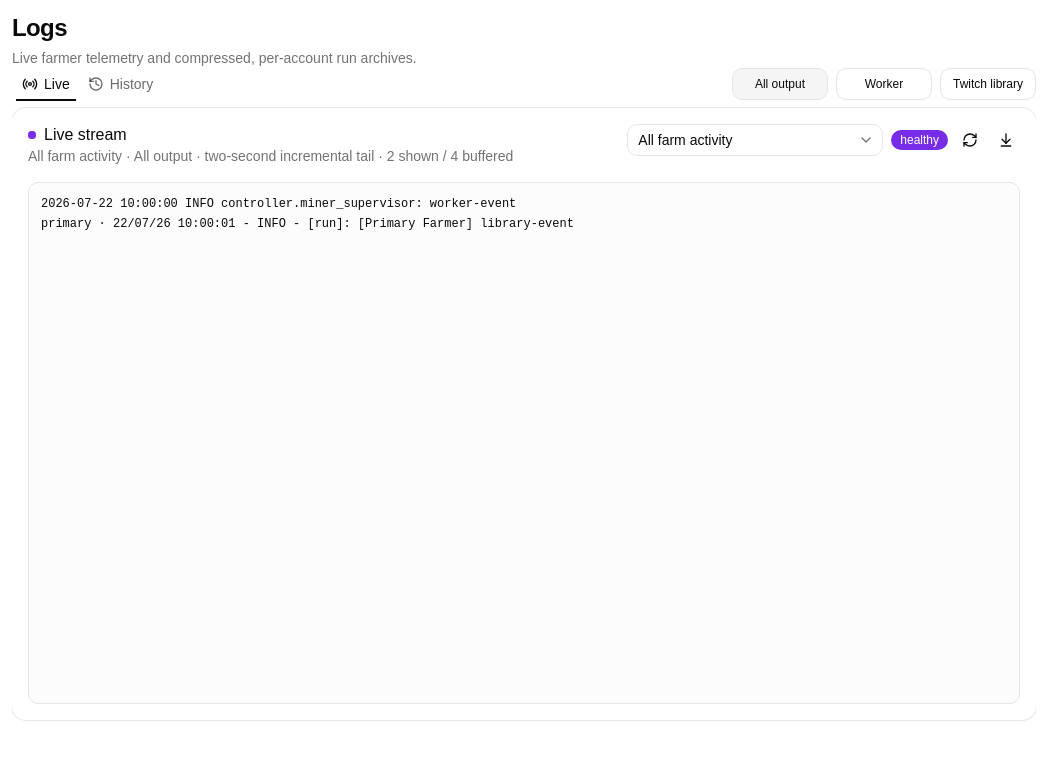
Scenario: LogsPage › filters live and archived output between worker and Twitch library lines
This screenshot has width=1048, height=780.
Expected: the text "Live farmer log lines" is shown, [41,197,574,230]
Click the button with aria-label "Show Twitch library logs".
click(988, 84)  # box [940,68,1036,100]
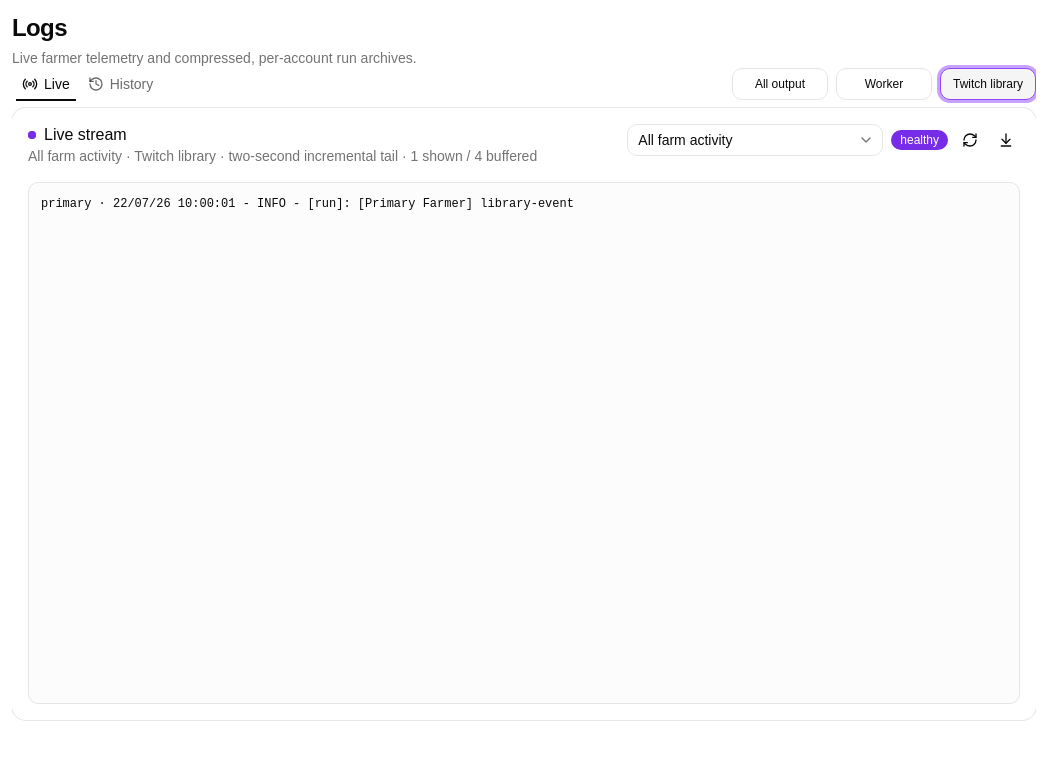
Expected: the text "library-event" does not show "twitch_farm.miner_output", [41,197,574,211]
Expected: the text "library-event" reads "primary · 22/07/26 10:00:01 - INFO - [run]: [Primary Farmer] library-event", [41,197,574,211]
Expected: the text "worker-event" is gone
Click the button with aria-label "Show Worker logs".
click(884, 84)  # box [836,68,932,100]
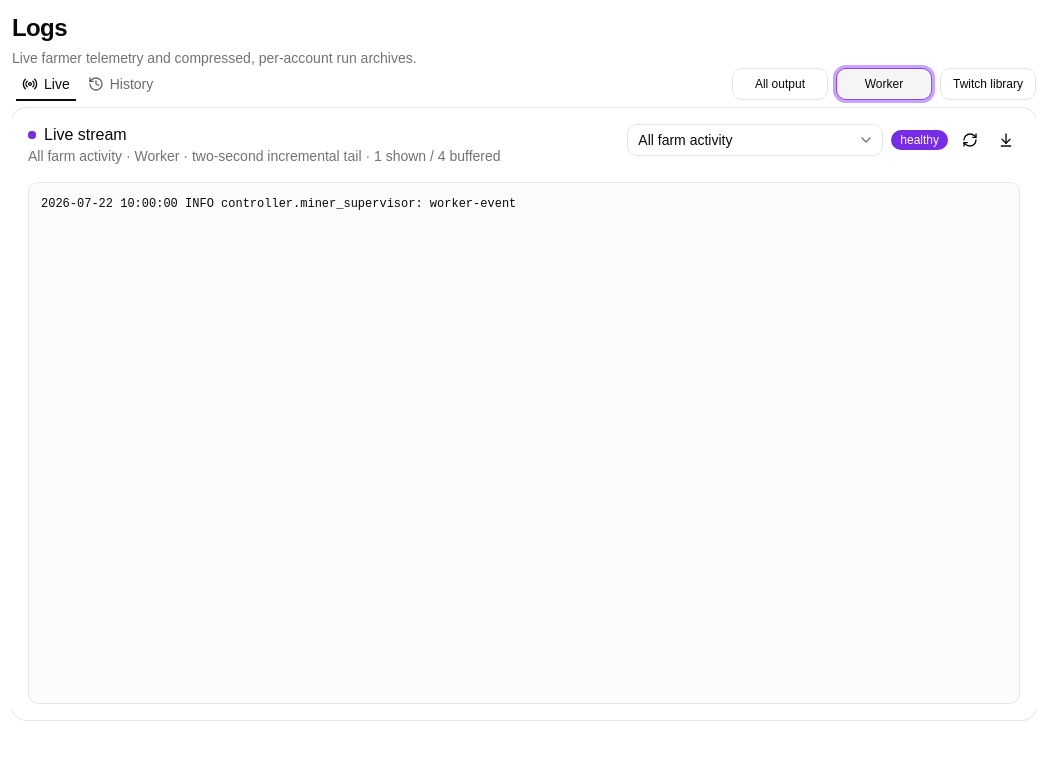
Expected: the text "worker-event" is shown, [41,197,516,211]
Expected: the text "library-event" is gone
Click the tab "History".
click(120, 84)  # box [81,72,160,96]
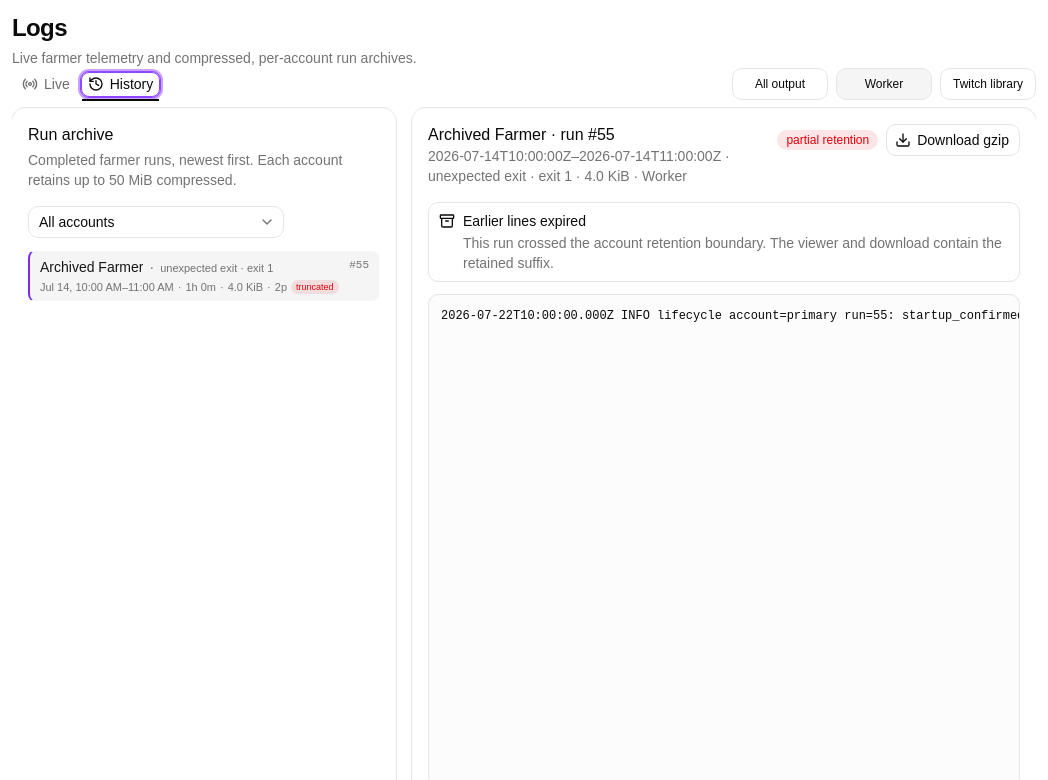
Expected: the text "Twitch miner ready" is not shown
Expected: the text "startup_confirmed" is shown, [441,309,1019,323]
Click the button with aria-label "Show Twitch library logs".
click(988, 84)  # box [940,68,1036,100]
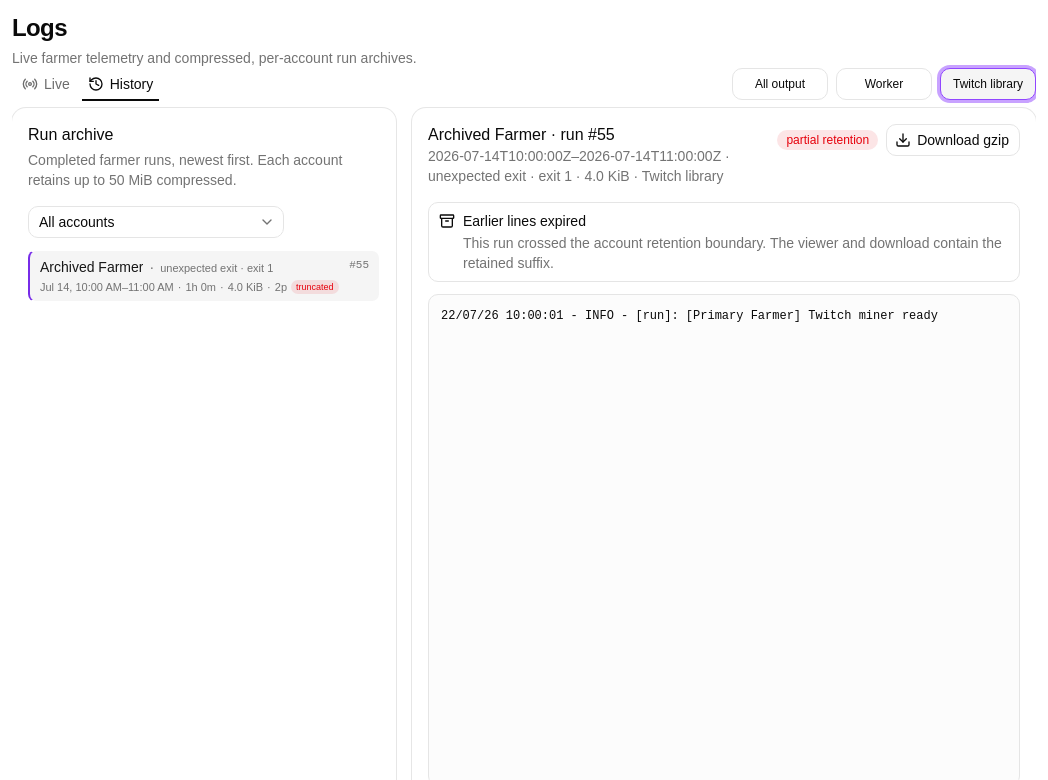
Expected: the text "Twitch miner ready" does not show "INFO library account=primary", [441,309,938,323]
Expected: the text "Twitch miner ready" reads "22/07/26 10:00:01 - INFO - [run]: [Primary Farmer] Twitch miner ready", [441,309,938,323]
Expected: the text "startup_confirmed" is gone
